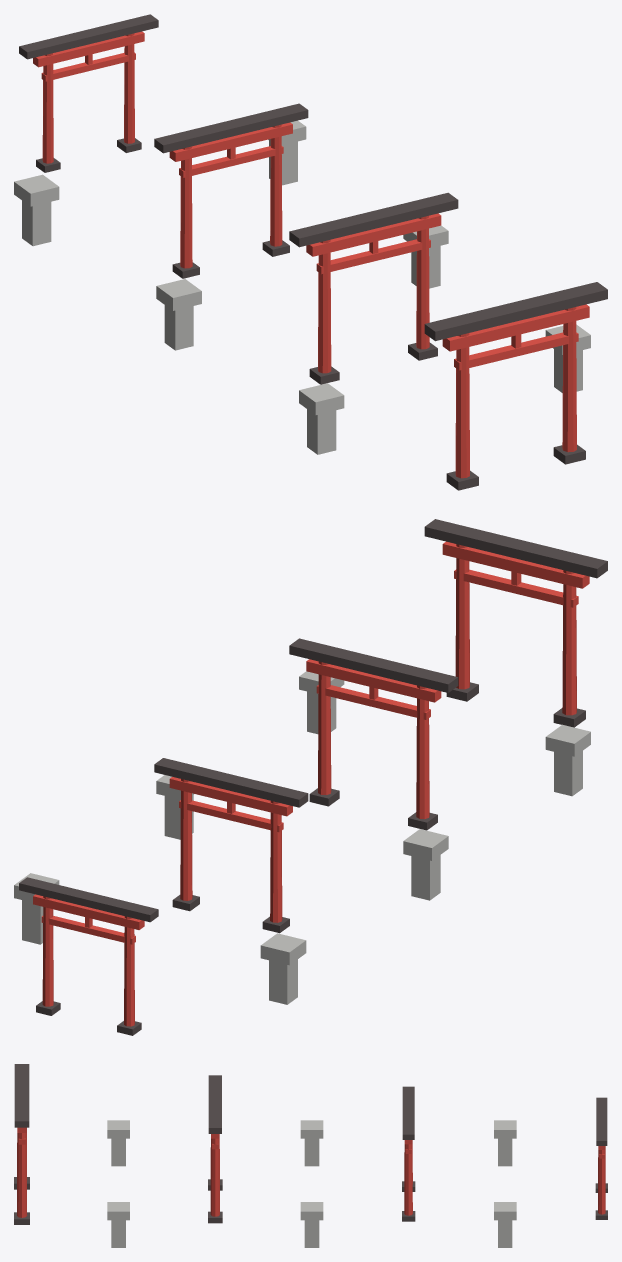
File: momiji_torii_path.glb
The picture shows the model from 3 angles, top to bottom: view 1: azimuth 30°, elevation 25°; view 2: azimuth 150°, elevation 25°; view 3: azimuth 270°, elevation 25°; orthographic projection. The views are drawn at different scales.
Parts seen in each view (by area): view 1: momiji_torii_path; view 2: momiji_torii_path; view 3: momiji_torii_path.
Boxes of the visible parts, left/top/right/bottom form: momiji_torii_path: left=14, top=14, right=607, bottom=490; momiji_torii_path: left=14, top=519, right=607, bottom=1035; momiji_torii_path: left=14, top=1064, right=607, bottom=1247.
Bounding box in the file's own units: 6.7 × 3.81 × 18.44.
